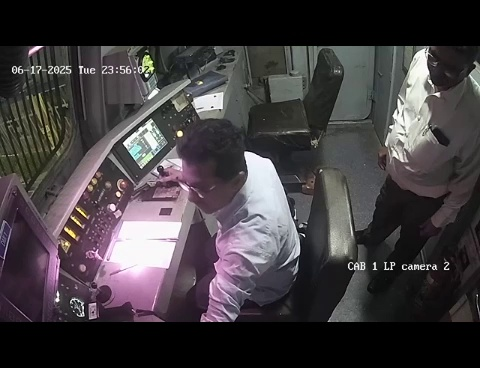horn_inactive: (82, 273, 124, 312)
